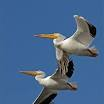pelican: (33, 15, 98, 58), (18, 59, 79, 103)
